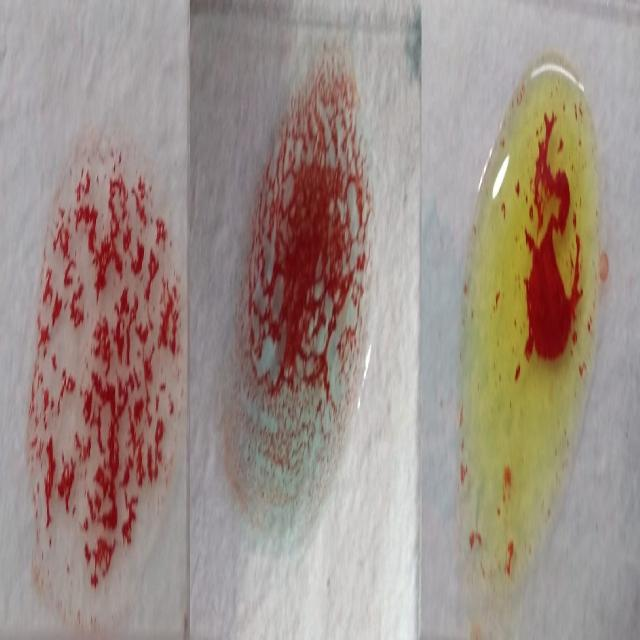A: (219, 55, 372, 532)
B: (454, 65, 598, 544)
D: (30, 164, 179, 609)
